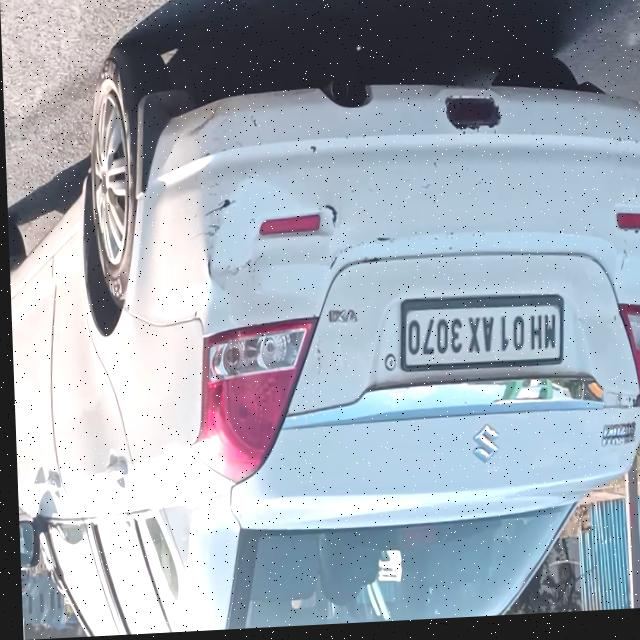plate: (394, 294, 564, 378)
